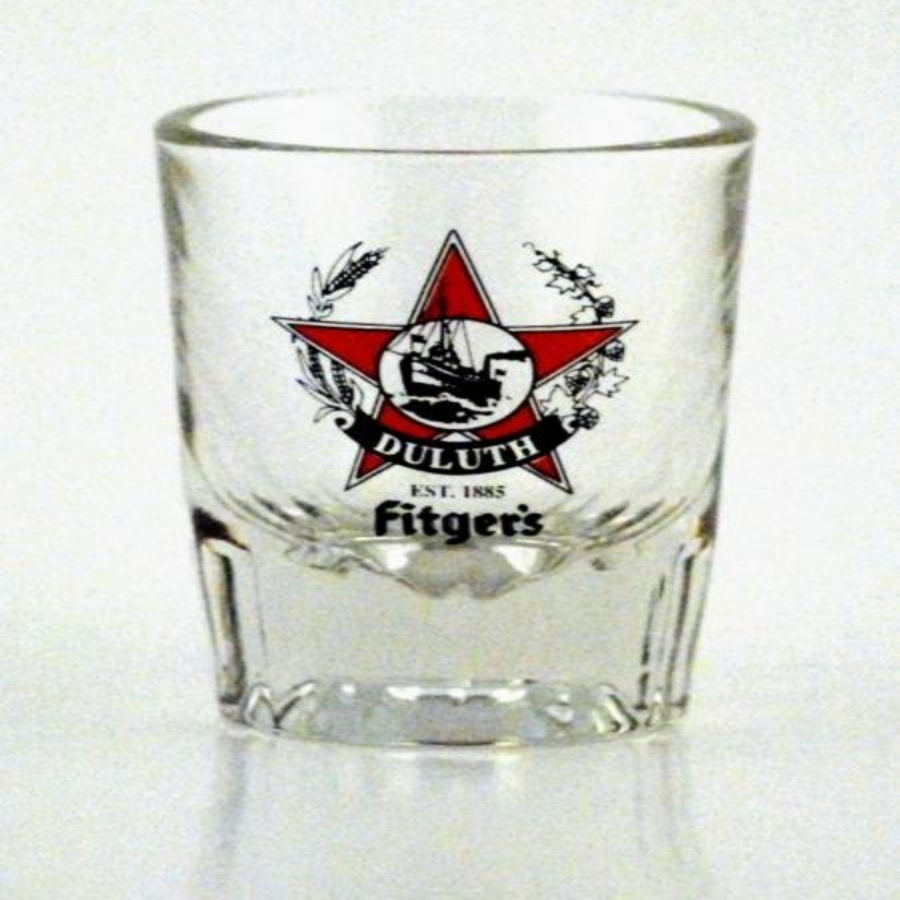whiskey: (137, 85, 746, 781)
